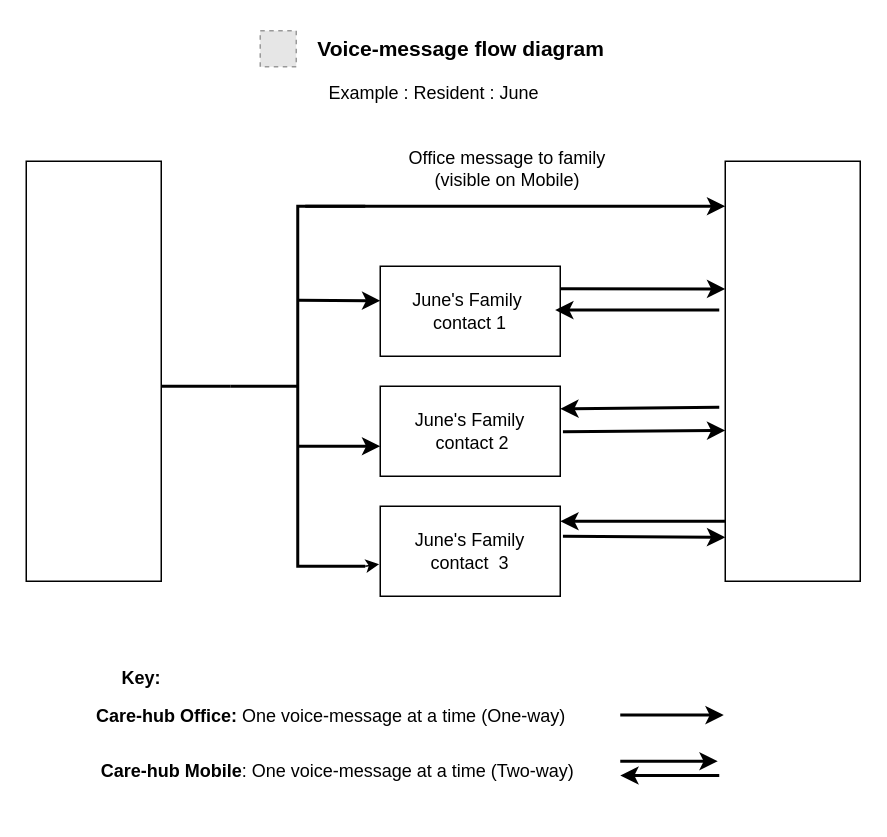
This 887x837 diagram has some shape labels left out. Grey dashed boxes stand in for pictures. The shapes that lost their labels are listed below. From the top down, each one's centre as x and y in pixels, then its label:
(x=93, y=370): Care-hub Office message: To: June's family
(x=792, y=370): Care-hub Mobile: carer and Resident (June)
